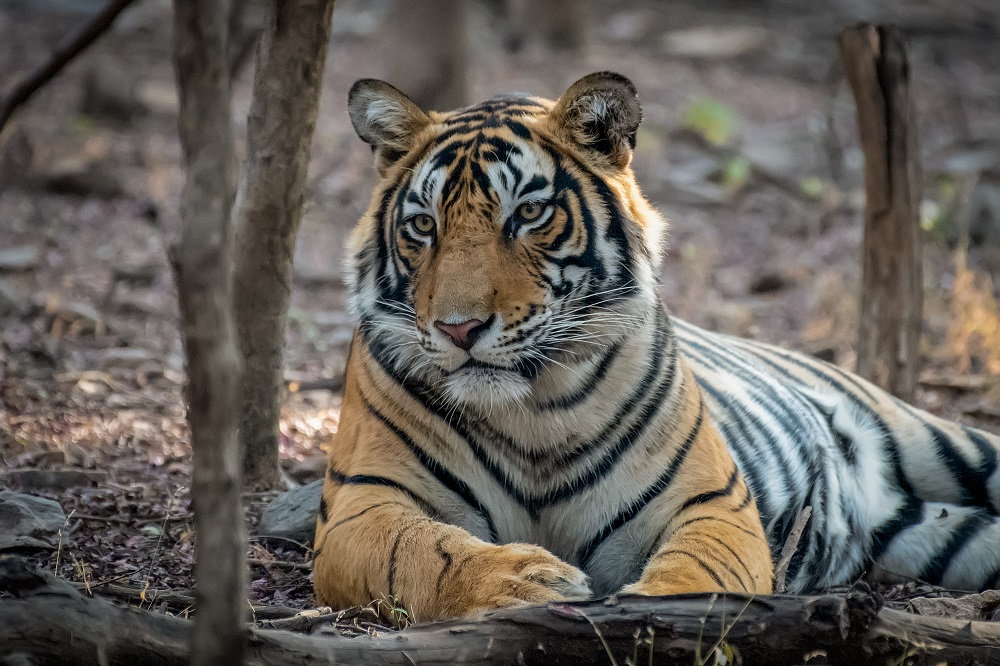Tigrew: (300, 46, 985, 622)
